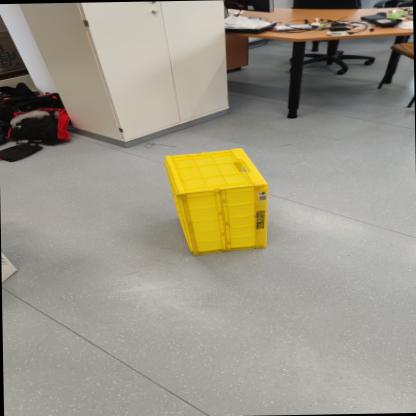box: (127, 134, 310, 270)
